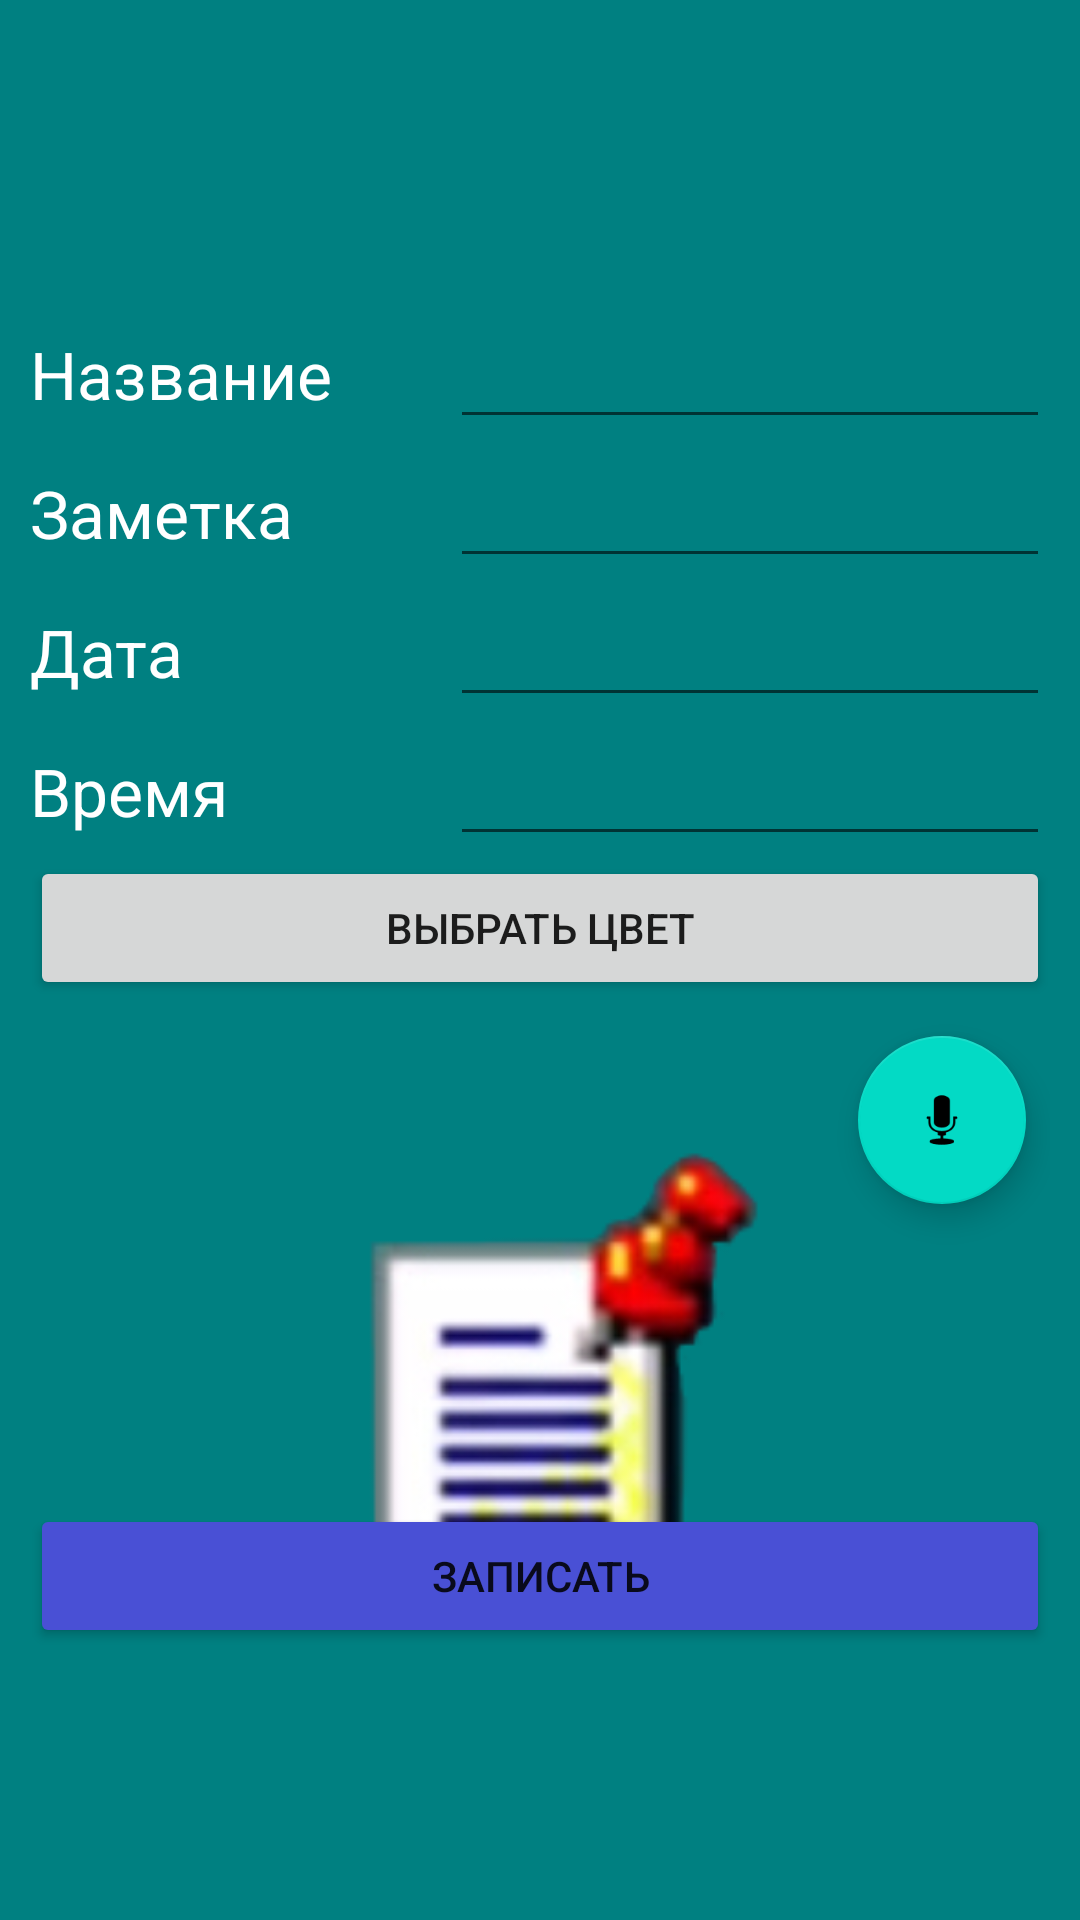

Icons on this 1080×1920 Android screen, each with the point to tap as (x,y):
speak now: (942,1120)
